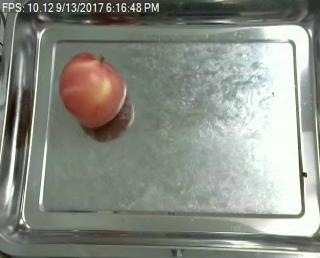apple: (57, 51, 127, 128)
